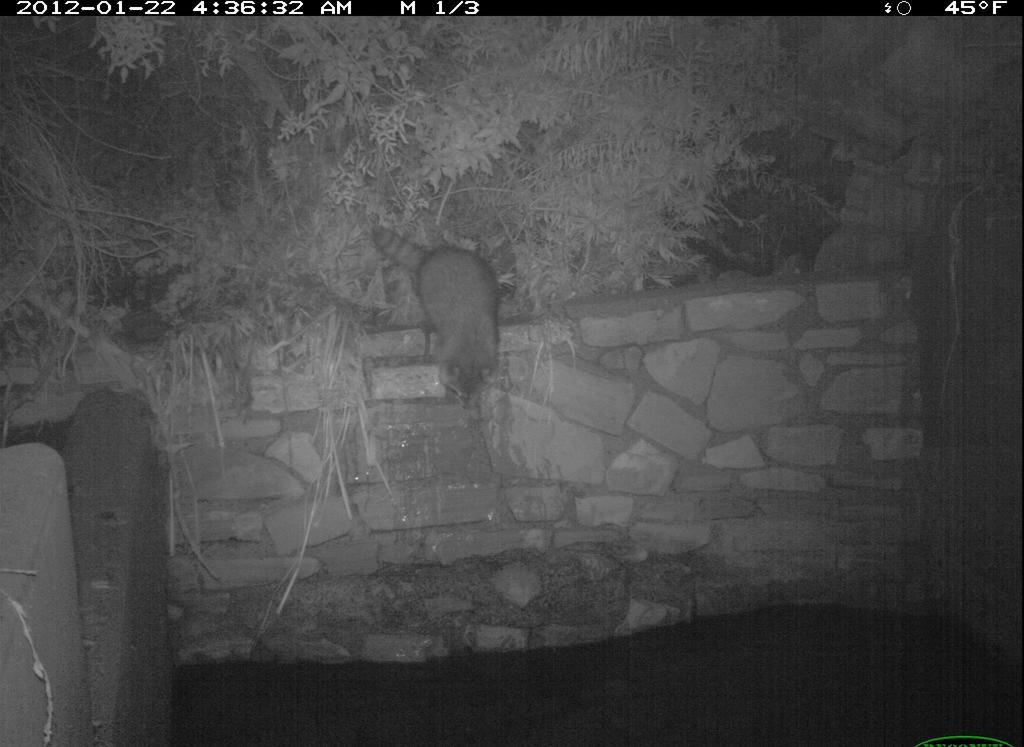raccoon: (364, 217, 516, 408)
